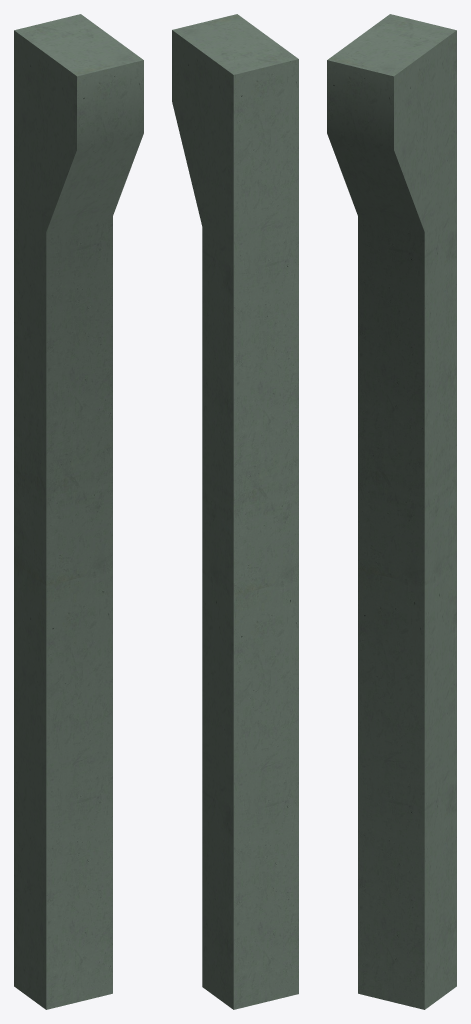
The model's file is WareBig_Column1.glb.
3 views of the same model, side by side, from view 1: azimuth 30°, elevation 25°; view 2: azimuth 210°, elevation 25°; view 3: azimuth 330°, elevation 25° (orthographic). The views are drawn at different scales.
Visible parts, largest first — view 1: WareBig_Column1; view 2: WareBig_Column1; view 3: WareBig_Column1.
Boxes of the visible parts, <box> form: WareBig_Column1: <box>14,14,143,1009</box>; WareBig_Column1: <box>172,14,298,1009</box>; WareBig_Column1: <box>327,14,456,1009</box>.
Bounding box in the file's own units: 0.6 × 8.21 × 0.9806.
1 material, 1 textured.
